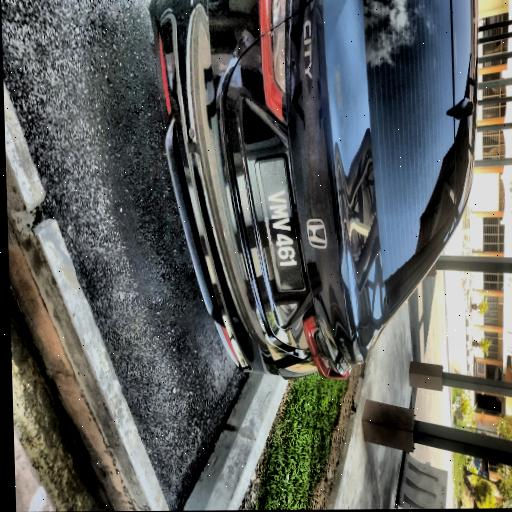license_plate: (247, 148, 305, 294)
